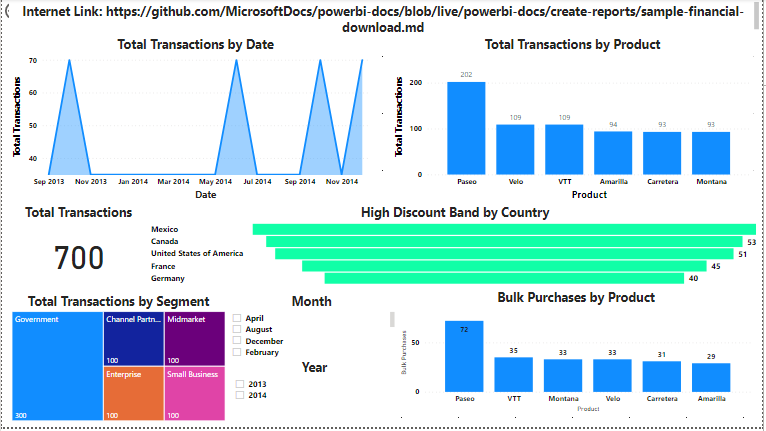

Layout of this report page (visuals, bound fields, positions):
{"tool":"powerbi","page":{"name":"TRANSACTIONS","canvas":[1280,720],"ordinal":1},"visuals":[{"type":"card","title":"Total Transactions","fields":{"Values":["Key Measures.Total Transactions"]},"box":[11.8,343.6,234.1,143.2],"z":0},{"type":"treemap","fields":{"Group":["financials.Segment"],"Values":["Key Measures.Total Transactions"]},"box":[11.8,493.5,368.8,222.3],"z":1000},{"type":"stackedAreaChart","fields":{"Category":["financials.Date"],"Y":["Key Measures.Total Transactions"]},"box":[11.8,60.6,628.2,282.9],"z":2000},{"type":"columnChart","fields":{"Category":["financials.Product"],"Y":["Key Measures.Total Transactions"]},"box":[655.2,60.6,611.4,282.9],"z":3000},{"type":"slicer","title":"Month","fields":{"Values":["financials.Month Name"]},"box":[375.6,493.5,291.4,116.2],"z":4000},{"type":"actionButton","box":[0,0,100,40],"z":5000},{"type":"slicer","title":"Year","fields":{"Values":["financials.Year"]},"box":[380.6,604.6,291.4,116.2],"z":6000},{"type":"funnel","fields":{"Category":["financials.Country"],"Y":["Key Measures.High Discount Band"]},"box":[245.9,343.6,1034.1,143.2],"z":7000},{"type":"columnChart","fields":{"Category":["financials.Product"],"Y":["Key Measures.Bulk Purchases"]},"box":[666.9,486.7,599.6,213.9],"z":8000},{"type":"textbox","box":[11.8,0,1268.2,60.6],"z":9000}]}

Visuals, with their boxes in screenshot pixels (x1, y1, x2, y2), scaled from the page's 1280x720 canvas onto the 766x431 screenshot:
"Total Transactions" card: bbox=[7, 206, 147, 291]
treemap - financials.Segment x Key Measures.Total Transactions: bbox=[7, 295, 228, 428]
stackedAreaChart - financials.Date x Key Measures.Total Transactions: bbox=[7, 36, 383, 206]
columnChart - financials.Product x Key Measures.Total Transactions: bbox=[392, 36, 758, 206]
"Month" slicer: bbox=[225, 295, 399, 365]
actionButton: bbox=[0, 0, 60, 24]
"Year" slicer: bbox=[228, 362, 402, 430]
funnel - financials.Country x Key Measures.High Discount Band: bbox=[147, 206, 765, 291]
columnChart - financials.Product x Key Measures.Bulk Purchases: bbox=[399, 291, 758, 419]
textbox: bbox=[7, 0, 765, 36]
